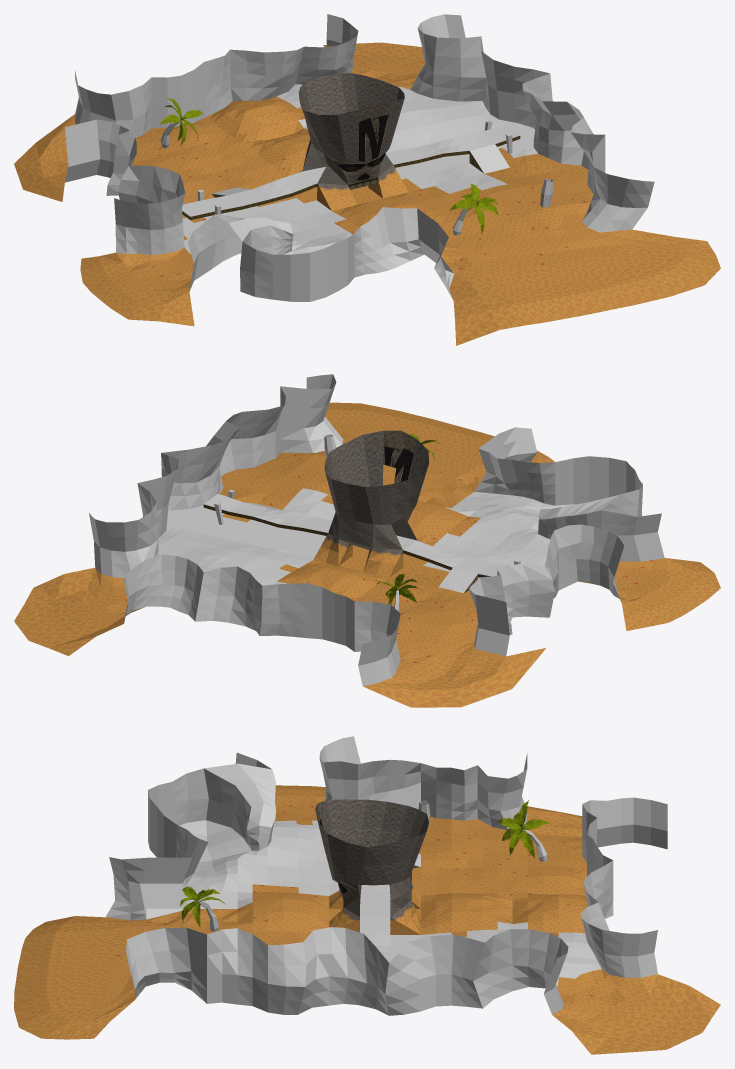
The model's file is skullCasilla15.obj.
3 renders of one model, top to bottom at view 1: azimuth 30°, elevation 25°; view 2: azimuth 150°, elevation 25°; view 3: azimuth 270°, elevation 25°, orthographic. The views are drawn at different scales.
Visible parts, largest first — view 1: piece_0056, piece_0142, piece_0130, piece_00F5, piece_0002, piece_0288, piece_005C, piece_0004, piece_01BB, piece_0003, piece_0090, piece_0286 (+74 smaller); view 2: piece_0288, piece_0211, piece_0290, piece_0034, piece_0090, piece_0201, piece_0091, piece_0234, piece_01EE, piece_01BB, piece_029A, piece_00F5 (+64 smaller); view 3: piece_0234, piece_0211, piece_0201, piece_00FA, piece_009B, piece_0034, piece_0071, piece_0140, piece_000A, piece_008E, piece_00F6, piece_0072 (+83 smaller).
Boxes of the visible parts, <box> form: piece_0056: <box>453,290,525,345</box>; piece_0142: <box>433,36,485,77</box>; piece_0130: <box>128,289,194,326</box>; piece_00F5: <box>338,103,376,163</box>; piece_0002: <box>612,260,704,296</box>; piece_0288: <box>14,159,64,201</box>; piece_005C: <box>526,281,604,318</box>; piece_0004: <box>583,269,669,304</box>; piece_01BB: <box>305,73,346,114</box>; piece_0003: <box>640,247,720,285</box>; piece_0090: <box>366,98,404,163</box>; piece_0286: <box>65,119,100,166</box>; piece_0288: <box>451,648,545,706</box>; piece_0211: <box>14,567,94,620</box>; piece_0290: <box>363,678,461,707</box>; piece_0034: <box>280,386,331,427</box>; piece_0090: <box>363,430,401,486</box>; piece_0201: <box>14,605,90,640</box>; piece_0091: <box>330,434,370,486</box>; piece_0234: <box>29,621,122,655</box>; piece_01EE: <box>508,564,554,600</box>; piece_01BB: <box>331,479,372,524</box>; piece_029A: <box>439,649,505,682</box>; piece_00F5: <box>394,431,428,483</box>; piece_0234: <box>643,974,720,1032</box>; piece_0211: <box>552,1015,666,1054</box>; piece_0201: <box>614,1007,701,1049</box>; piece_00FA: <box>359,799,407,847</box>; piece_009B: <box>329,927,366,982</box>; piece_0034: <box>165,927,206,976</box>; piece_0071: <box>268,942,306,986</box>; piece_0140: <box>407,934,453,978</box>; piece_000A: <box>127,928,174,975</box>; piece_008E: <box>358,840,407,885</box>; piece_00F6: <box>327,799,366,845</box>; piece_0072: <box>207,928,237,976</box>.
Size of the model in its own units: 61.95 by 15.04 by 69.33.
